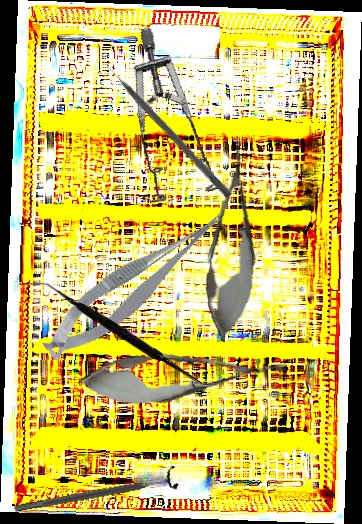Fixation Ring: (12, 464, 180, 522)
Micro Scissor: (29, 204, 242, 368), (76, 340, 289, 412), (199, 132, 265, 344)
Pusher: (100, 57, 234, 199)
Spatula Surgical: (29, 275, 222, 390)
Speculum: (87, 24, 265, 223)
